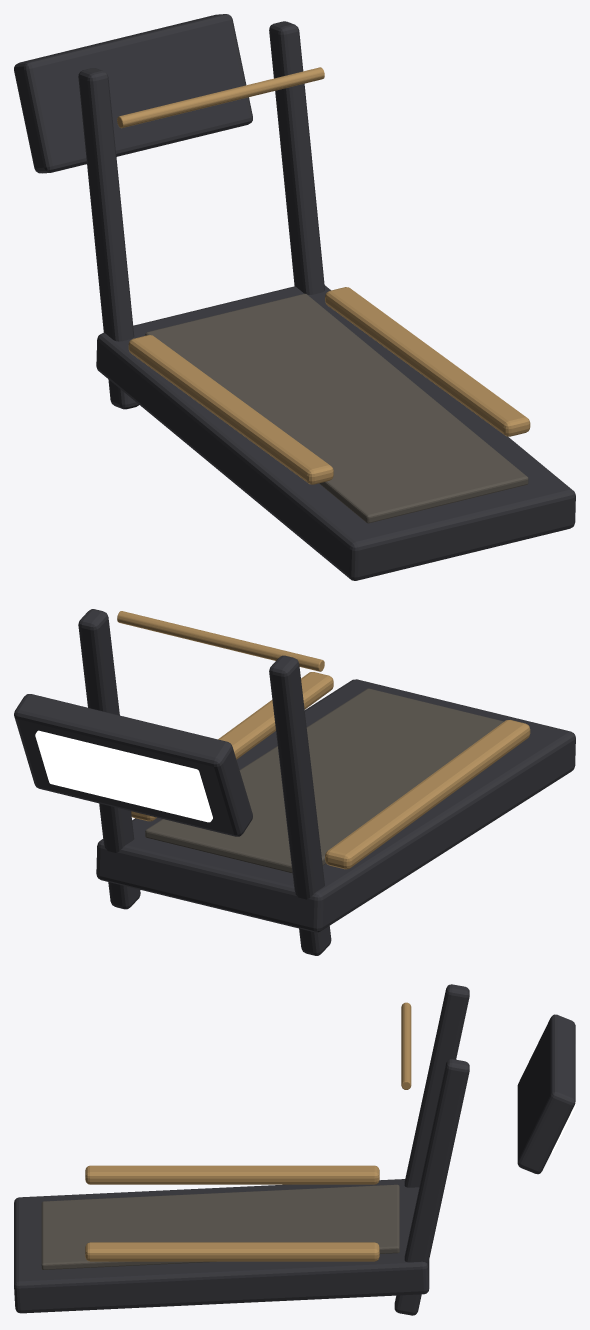
Rendered from treadmill.glb.
The picture shows the model from 3 angles, top to bottom: view 1: azimuth 30°, elevation 25°; view 2: azimuth 150°, elevation 25°; view 3: azimuth 270°, elevation 25°; orthographic projection. The views are drawn at different scales.
Parts seen in each view (by area): view 1: tm_belt, tm_deck, tm_console, tm_post_-1, tm_post_1, tm_rail_-1, tm_rail_1, tm_bar; view 2: tm_deck, tm_belt, tm_console, tm_screen, tm_post_-1, tm_rail_-1, tm_post_1, tm_bar, tm_rail_1; view 3: tm_deck, tm_belt, tm_console, tm_rail_-1, tm_rail_1, tm_post_1, tm_post_-1, tm_bar.
Part boxes in pixels (<box>): tm_belt: <box>145,293,528,523</box>; tm_deck: <box>96,285,575,580</box>; tm_console: <box>14,14,252,173</box>; tm_post_-1: <box>78,68,138,409</box>; tm_post_1: <box>269,21,324,294</box>; tm_rail_-1: <box>128,335,333,484</box>; tm_rail_1: <box>325,287,530,436</box>; tm_bar: <box>117,67,324,128</box>; tm_deck: <box>96,679,575,932</box>; tm_belt: <box>145,688,503,873</box>; tm_console: <box>14,694,252,836</box>; tm_screen: <box>35,730,212,822</box>; tm_post_-1: <box>269,655,331,955</box>; tm_rail_-1: <box>325,720,530,869</box>; tm_post_1: <box>78,609,140,909</box>; tm_bar: <box>117,611,324,671</box>; tm_rail_1: <box>131,672,333,821</box>; tm_deck: <box>14,1179,429,1313</box>; tm_belt: <box>41,1184,399,1269</box>; tm_console: <box>517,1014,575,1174</box>; tm_rail_-1: <box>85,1165,379,1184</box>; tm_rail_1: <box>85,1242,379,1261</box>; tm_post_1: <box>394,1059,469,1315</box>; tm_post_-1: <box>404,984,469,1187</box>; tm_bar: <box>401,1002,411,1089</box>.
Bounding box in the file's own units: 0.78 × 1.04 × 2.1.
